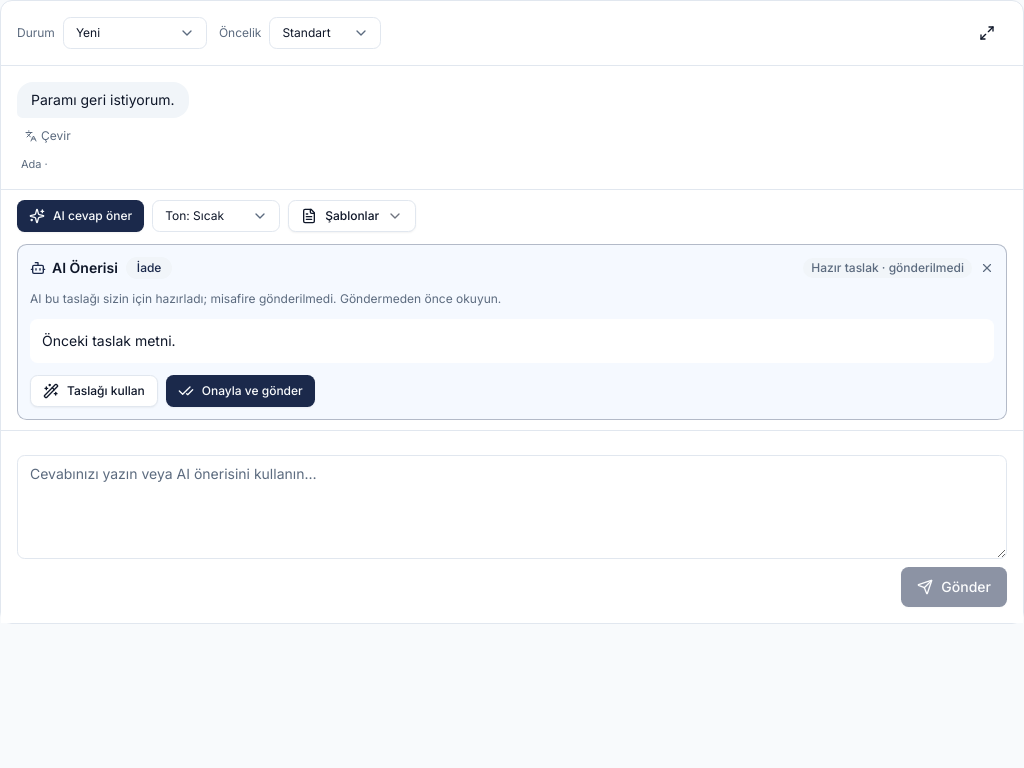
Scenario: konuşma ekranı — yapay zekâ önerisi hazırlanamadığında (3d) › 🚨 model arızası önceki taslağı SİLMEZ: kayıtlı hazır taslak yerinde kalır, not eklenir
Expected: the text "Önceki taslak metni." is shown, [30,318,994,362]
Step 1. Click the button "AI cevap öner" → (81, 216), box [17,200,144,232]
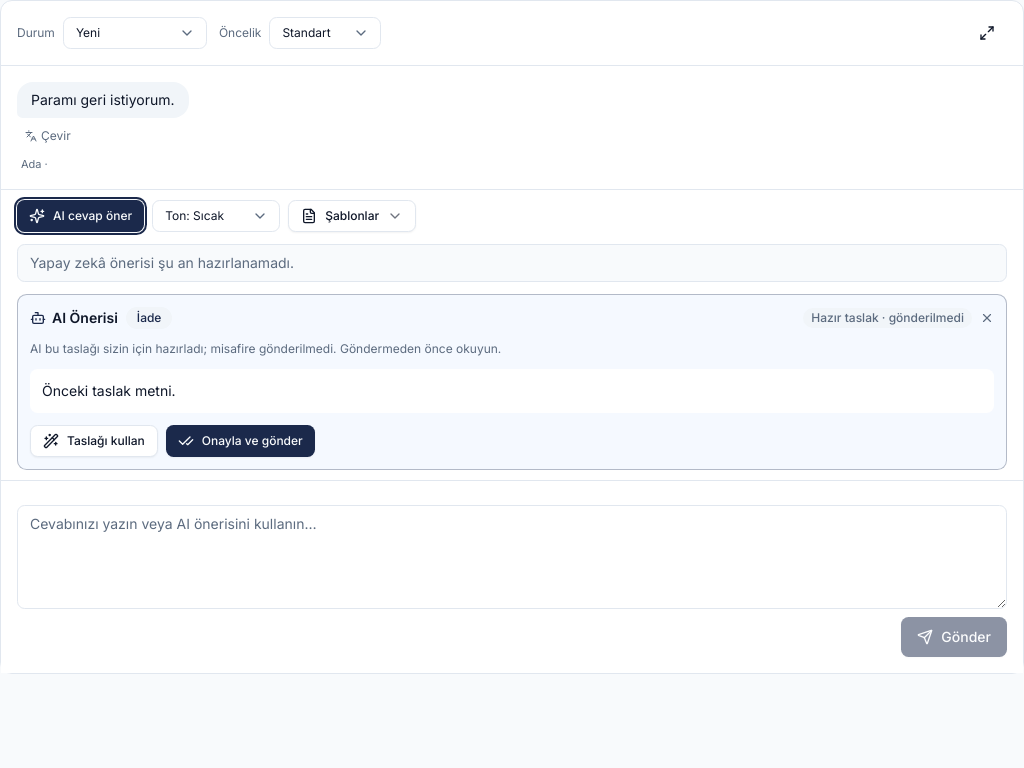
Expected: the text "Önceki taslak metni." is shown, [30,368,994,412]
Now the message "Yapay zekâ önerisi şu an hazırlanamadı." is shown, box [17,244,1007,282]
